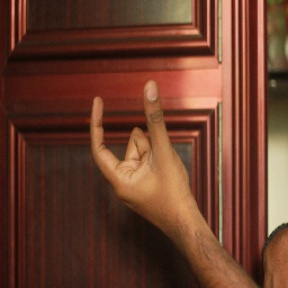U: (83, 75, 190, 210)
